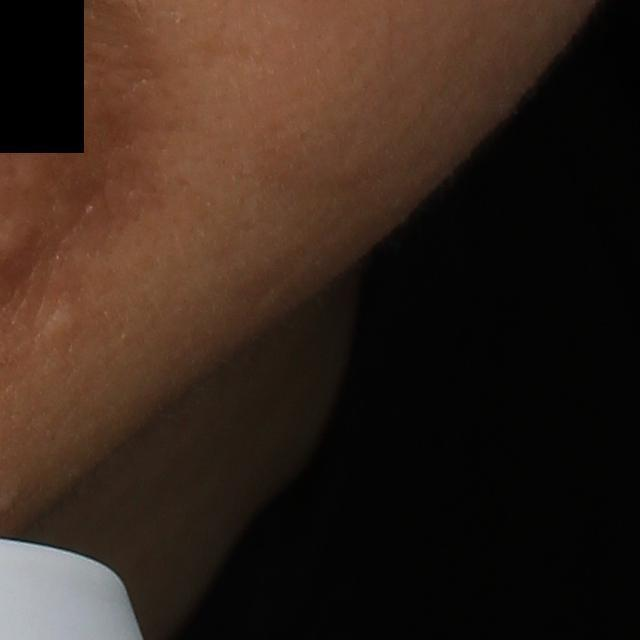hypertrophic_scar: (41, 299, 80, 348)
